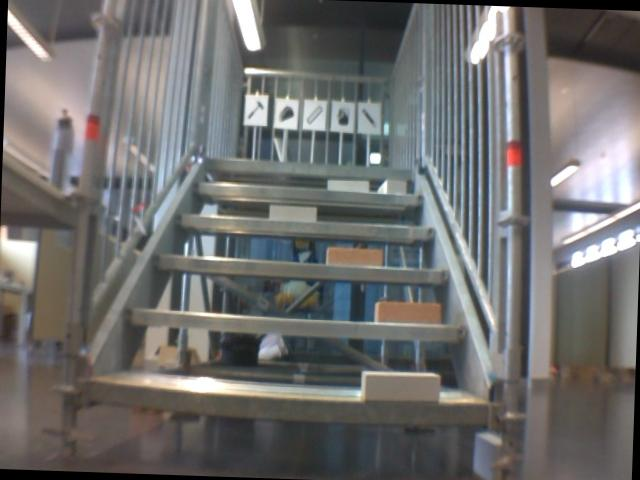brick: (360, 370, 439, 401), (375, 300, 440, 323), (326, 247, 381, 267), (269, 206, 315, 222), (326, 179, 368, 191), (378, 179, 406, 193)
bucket: (335, 105, 350, 126)
edge: (87, 381, 488, 426), (124, 309, 467, 341), (148, 254, 450, 282), (174, 214, 436, 240), (192, 182, 425, 205), (204, 156, 412, 179)
hammer: (244, 99, 263, 120)
pencil: (359, 106, 377, 127)
ruler: (305, 100, 324, 128)
steps: (81, 146, 500, 432)
taco: (277, 102, 296, 124)
